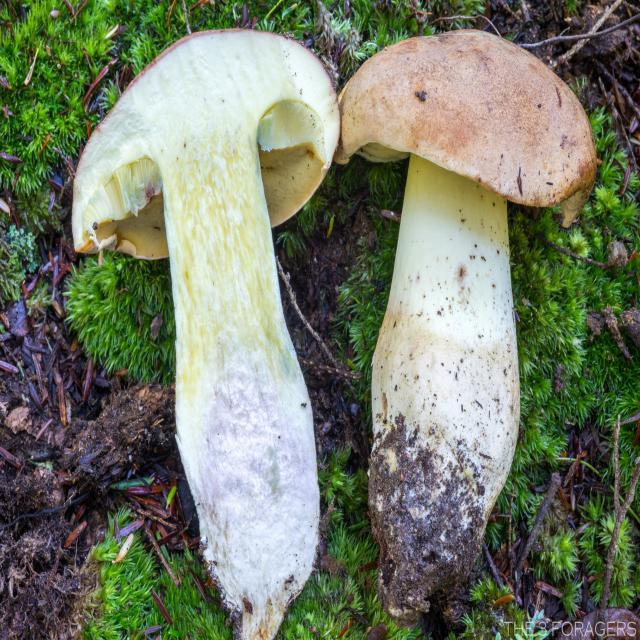Boletus: (73, 29, 338, 636), (337, 30, 596, 619)
